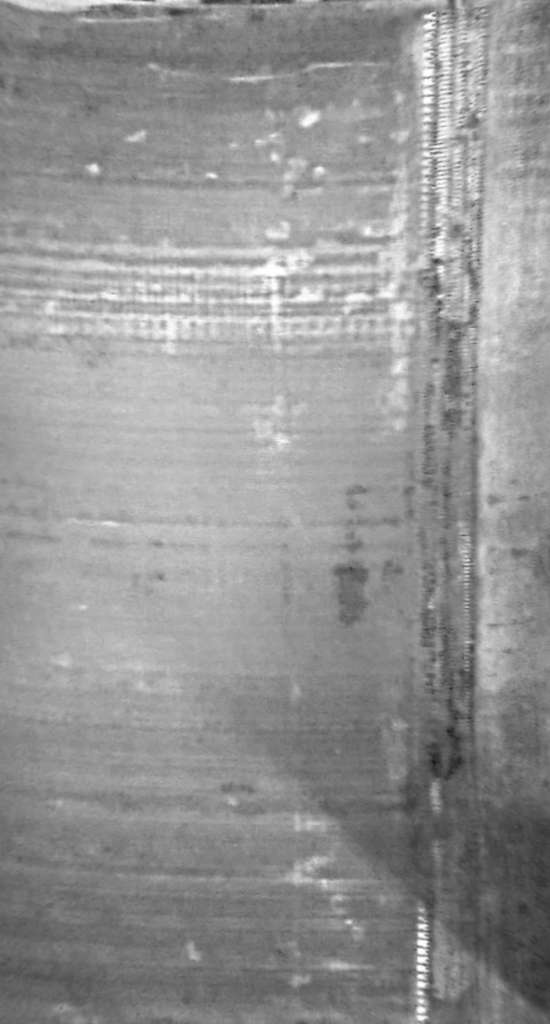splice: (407, 3, 497, 1024)
